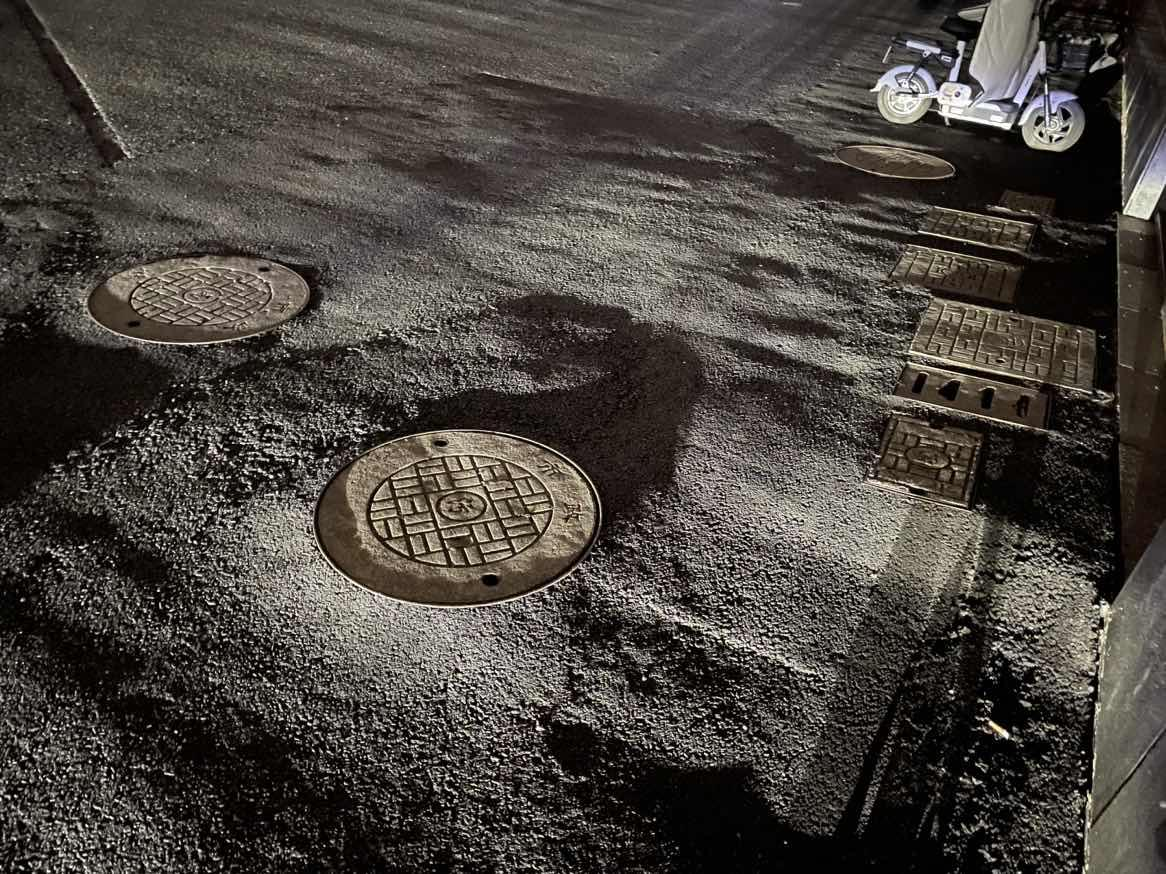wellcover: (308, 419, 610, 605), (72, 239, 332, 352), (908, 285, 1109, 408), (876, 346, 1063, 436), (852, 405, 999, 510), (870, 228, 1035, 311), (902, 193, 1038, 265), (842, 130, 955, 184), (987, 173, 1058, 229)
